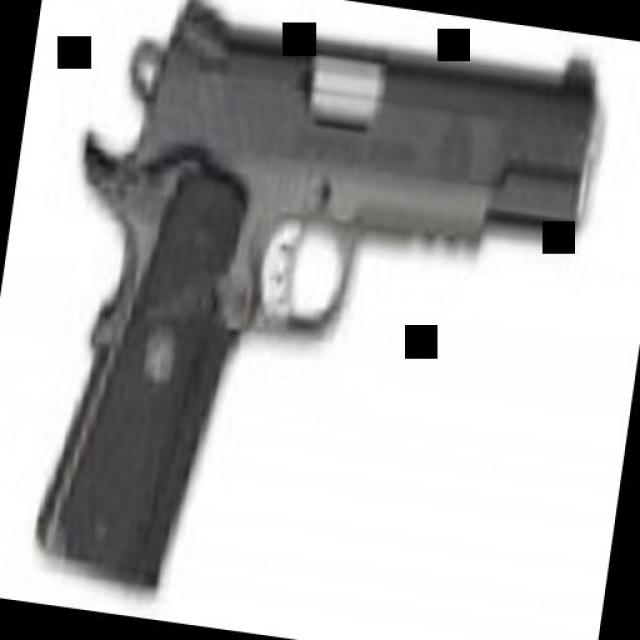gun: (15, 0, 611, 640)
